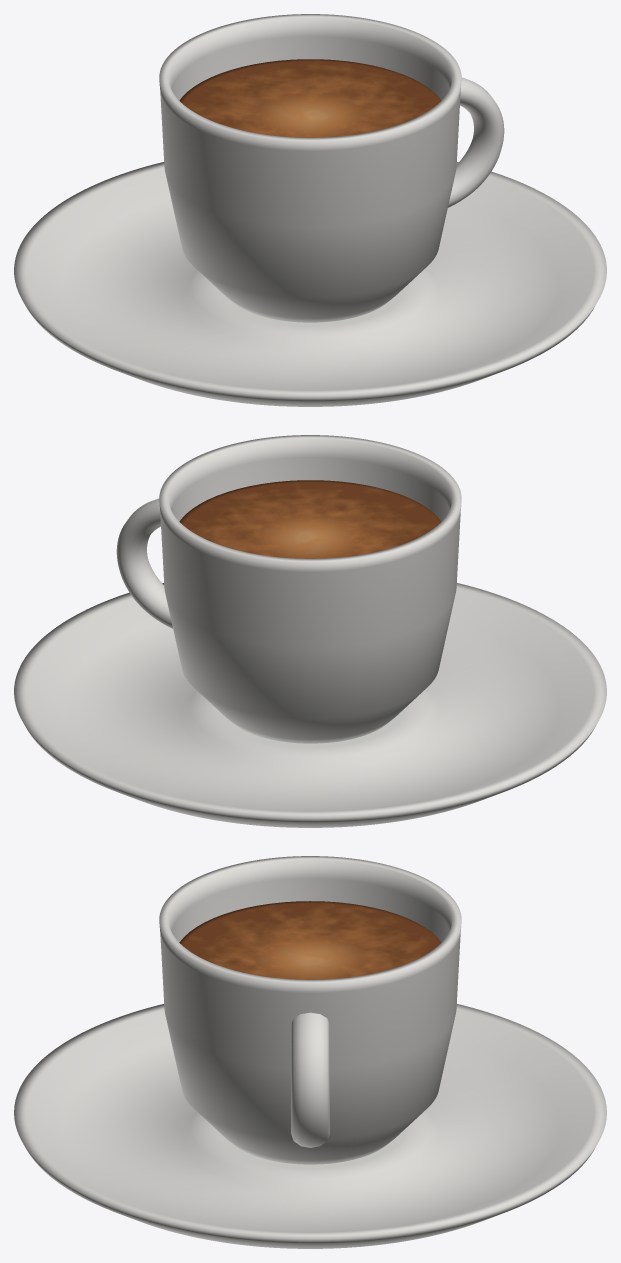
The model's file is espresso.glb.
The picture shows the model from 3 angles, top to bottom: view 1: azimuth 30°, elevation 25°; view 2: azimuth 150°, elevation 25°; view 3: azimuth 270°, elevation 25°; orthographic projection.
Parts seen in each view (by area): view 1: Pires, Xicara, Cafe, Alca; view 2: Pires, Xicara, Cafe, Alca; view 3: Pires, Xicara, Cafe, Alca.
Boxes of the visible parts, bbox=[...] form: Pires: bbox=[14, 162, 606, 406]; Xicara: bbox=[159, 14, 461, 322]; Cafe: bbox=[179, 59, 441, 137]; Alca: bbox=[448, 77, 504, 207]; Pires: bbox=[14, 583, 606, 827]; Xicara: bbox=[159, 435, 461, 743]; Cafe: bbox=[179, 480, 441, 558]; Alca: bbox=[116, 498, 172, 628]; Pires: bbox=[14, 1004, 606, 1248]; Xicara: bbox=[159, 856, 461, 1164]; Cafe: bbox=[179, 901, 441, 979]; Alca: bbox=[291, 1012, 329, 1147].
Size of the model in its own units: 0.138 by 0.0625 by 0.138.
2 materials, 1 textured.
